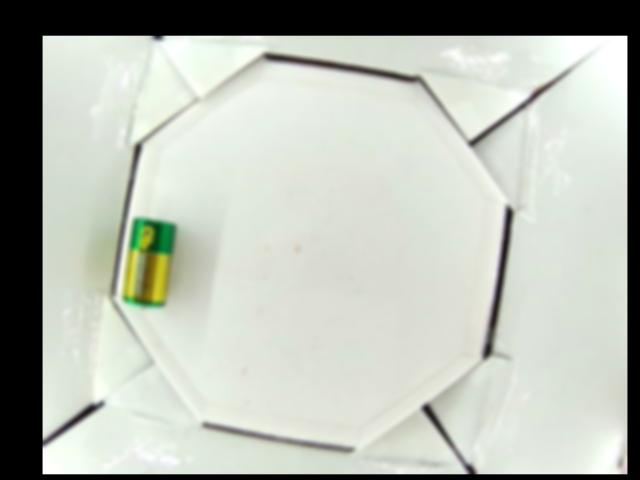Battery: (120, 216, 175, 311)
